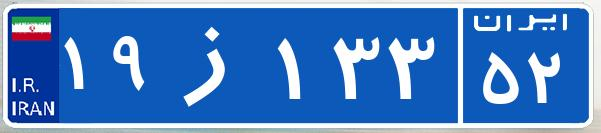1: (273, 28, 330, 110), (57, 26, 110, 107)
2: (525, 38, 570, 115)
3: (385, 28, 445, 110), (330, 28, 385, 110)
5: (475, 38, 525, 113)
9: (110, 28, 158, 105)
ز: (158, 15, 273, 115)
